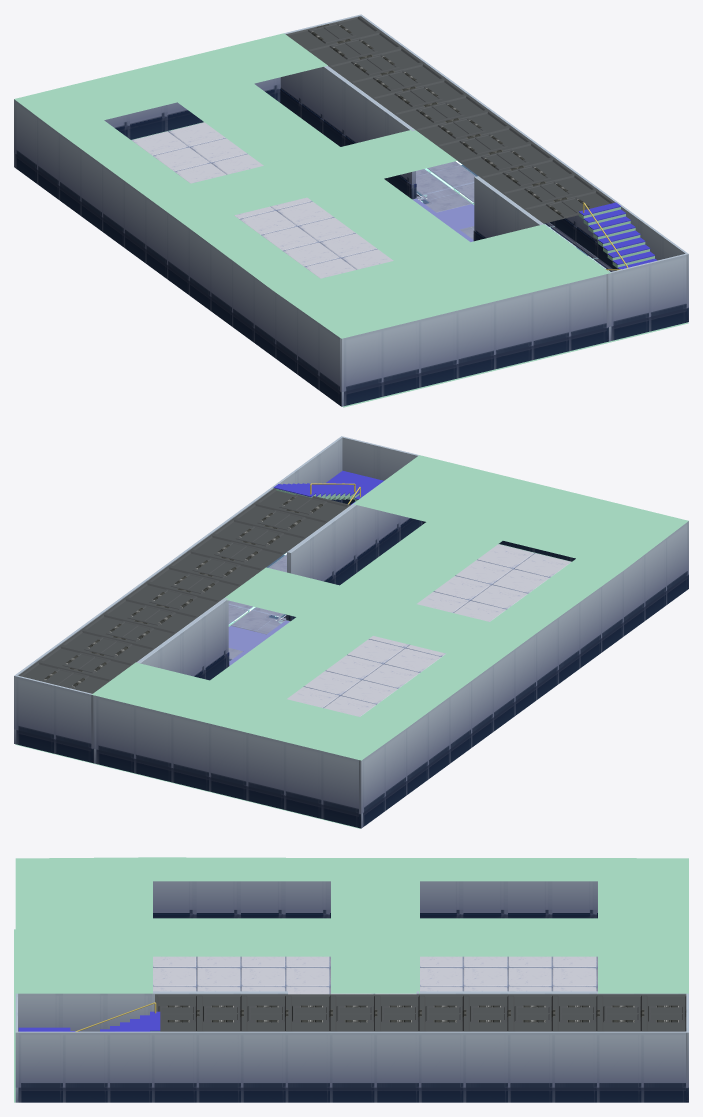
The model's file is engine_origin_1.fbx.
The picture shows the model from 3 angles, top to bottom: view 1: azimuth 30°, elevation 25°; view 2: azimuth 150°, elevation 25°; view 3: azimuth 270°, elevation 25°; orthographic projection. The views are drawn at different scales.
Parts seen in each view (by area): view 1: test_celling_1, main_low.001, celling1_low, main_low.012, floor2_low.007, main_low.006, main_low.009, main_low.008, step.001, main_low, main_low.003, floor2_low.002 (+3 smaller); view 2: test_celling_1, main_low.001, celling1_low, main_low, floor2_low.007, main_low.003, main_low.007, main_low.006, main_low.008, main_low.009, step.001, Plane (+2 smaller); view 3: test_celling_1, main_low.008, celling1_low, main_low.001, floor2_low.007, main_low.005, step.001, main_low.004.
Part boxes in pixels (x1=…): test_celling_1: x1=14, y1=33, x2=610, y2=338; main_low.001: x1=15, y1=100, x2=339, y2=405; celling1_low: x1=286, y1=16, x2=614, y2=223; main_low.012: x1=344, y1=274, x2=606, y2=406; floor2_low.007: x1=131, y1=122, x2=393, y2=278; main_low.006: x1=280, y1=66, x2=411, y2=197; main_low.009: x1=610, y1=254, x2=686, y2=340; main_low.008: x1=360, y1=15, x2=686, y2=270; step.001: x1=578, y1=202, x2=657, y2=269; main_low: x1=104, y1=77, x2=280, y2=139; main_low.003: x1=475, y1=177, x2=541, y2=240; floor2_low.002: x1=416, y1=164, x2=477, y2=196; test_celling_1: x1=92, y1=455, x2=688, y2=760; main_low.001: x1=363, y1=522, x2=687, y2=826; celling1_low: x1=18, y1=488, x2=350, y2=693; main_low: x1=96, y1=696, x2=358, y2=827; floor2_low.007: x1=287, y1=544, x2=570, y2=716; main_low.003: x1=290, y1=504, x2=422, y2=619; main_low.007: x1=16, y1=675, x2=91, y2=762; main_low.006: x1=138, y1=599, x2=227, y2=680; main_low.008: x1=16, y1=437, x2=342, y2=675; main_low.009: x1=342, y1=436, x2=418, y2=504; step.001: x1=273, y1=483, x2=359, y2=500; Plane: x1=228, y1=611, x2=289, y2=665; test_celling_1: x1=15, y1=857, x2=688, y2=993; main_low.008: x1=18, y1=1031, x2=685, y2=1102; celling1_low: x1=155, y1=994, x2=686, y2=1031; main_low.001: x1=153, y1=881, x2=597, y2=918; floor2_low.007: x1=153, y1=956, x2=597, y2=994; main_low.005: x1=18, y1=992, x2=285, y2=1031; step.001: x1=75, y1=1002, x2=160, y2=1031; main_low.004: x1=419, y1=992, x2=685, y2=994.
Bounding box in the file's own units: 13982 × 3043 × 22761.
